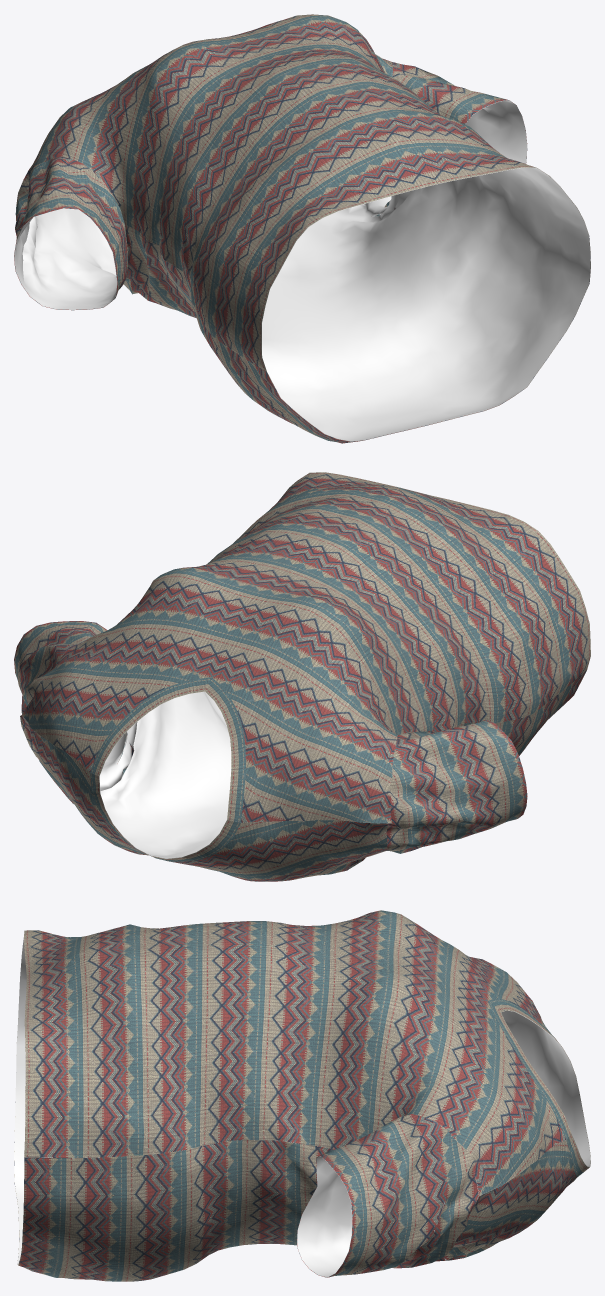
File: male_obs_B5kmOve.glb
The picture shows the model from 3 angles, top to bottom: view 1: azimuth 30°, elevation 25°; view 2: azimuth 150°, elevation 25°; view 3: azimuth 270°, elevation 25°; orthographic projection. The views are drawn at different scales.
Visible parts, largest first — view 1: male_obs; view 2: male_obs; view 3: male_obs.
Part boxes in pixels (x1,y1,x2,y2): male_obs: [14, 14, 590, 443]; male_obs: [14, 472, 590, 881]; male_obs: [14, 910, 590, 1281].
Bounding box in the file's own units: 0.7473 × 0.4115 × 0.6867.
2 materials, 1 textured.
